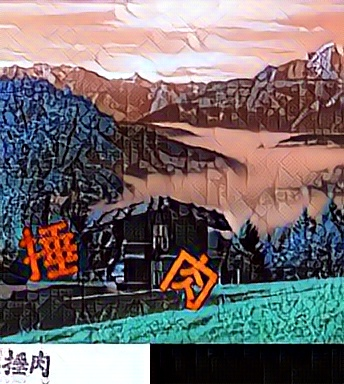B4B7: (18, 219, 80, 283)
C8E2: (157, 247, 219, 311)
